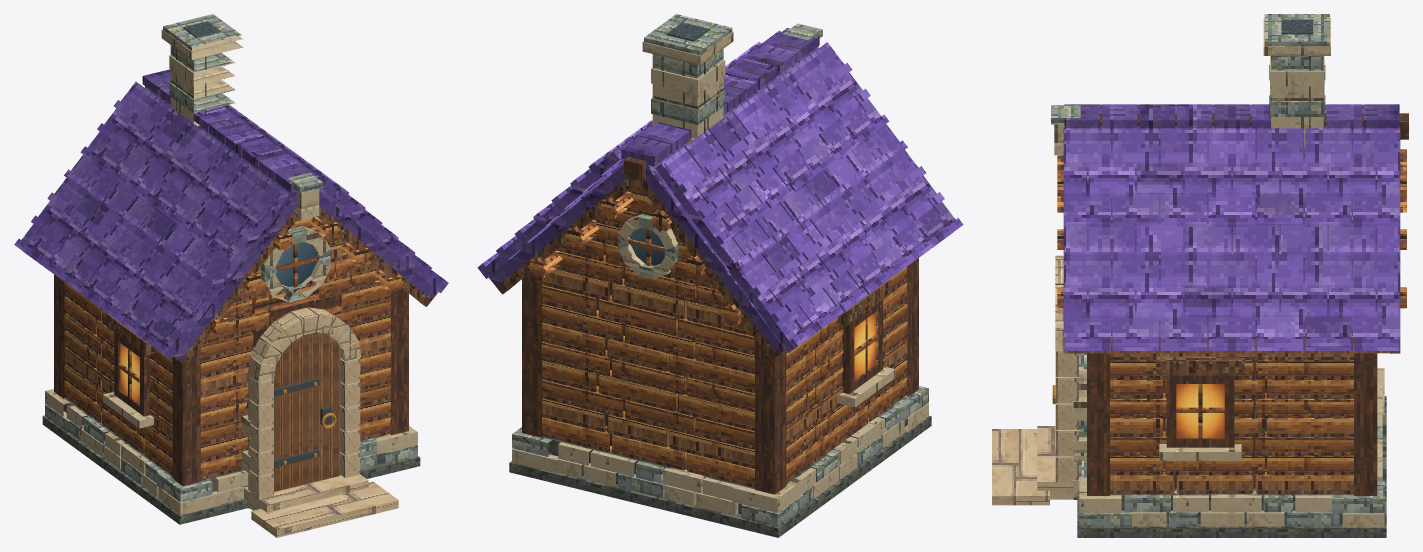
The picture shows the model from 3 angles, left to right: view 1: azimuth 30°, elevation 25°; view 2: azimuth 150°, elevation 25°; view 3: azimuth 270°, elevation 25°; orthographic projection. The views are drawn at different scales.
Visible parts, largest first — view 1: roof_geometry, roof_light_geometry, oak_geometry, oak_light_geometry, stone_warm_geometry, wood_geometry, wood_dark_geometry, roof_dark_geometry, stone_light_geometry, Walkable entry tread 0, stone_dark_geometry, Walkable entry tread 1 (+17 smaller); view 2: roof_geometry, oak_light_geometry, roof_light_geometry, oak_geometry, wood_geometry, stone_warm_geometry, wood_dark_geometry, roof_dark_geometry, stone_light_geometry, stone_dark_geometry, wood_light_geometry, window_glow_geometry (+1 smaller); view 3: roof_geometry, roof_light_geometry, stone_warm_geometry, wood_dark_geometry, roof_dark_geometry, oak_geometry, oak_light_geometry, stone_light_geometry, wood_geometry, stone_dark_geometry, Walkable entry tread 0, wood_light_geometry (+8 smaller).
Boxes of the visible parts, <box> form: roof_geometry: <box>21,86,445,333</box>; roof_light_geometry: <box>14,81,448,358</box>; oak_geometry: <box>64,219,390,476</box>; oak_light_geometry: <box>64,216,403,468</box>; stone_warm_geometry: <box>45,29,417,515</box>; wood_geometry: <box>64,203,426,479</box>; wood_dark_geometry: <box>42,85,438,485</box>; roof_dark_geometry: <box>44,69,438,361</box>; stone_light_geometry: <box>45,14,417,502</box>; Walkable entry tread 0: <box>251,481,398,537</box>; stone_dark_geometry: <box>42,49,420,524</box>; Walkable entry tread 1: <box>249,474,368,512</box>; roof_geometry: <box>480,30,936,352</box>; oak_light_geometry: <box>527,183,907,483</box>; roof_light_geometry: <box>477,41,963,352</box>; oak_geometry: <box>542,193,907,478</box>; wood_geometry: <box>502,177,907,487</box>; stone_warm_geometry: <box>512,31,928,515</box>; wood_dark_geometry: <box>488,44,932,494</box>; roof_dark_geometry: <box>489,28,955,355</box>; stone_light_geometry: <box>512,14,928,527</box>; stone_dark_geometry: <box>509,61,931,537</box>; wood_light_geometry: <box>542,269,907,464</box>; window_glow_geometry: <box>854,312,875,379</box>; roof_geometry: <box>1064,104,1399,350</box>; roof_light_geometry: <box>1065,104,1399,350</box>; stone_warm_geometry: <box>1054,18,1384,527</box>; wood_dark_geometry: <box>1063,113,1408,495</box>; roof_dark_geometry: <box>1063,104,1400,350</box>; oak_geometry: <box>1110,355,1353,474</box>; oak_light_geometry: <box>1057,149,1406,480</box>; stone_light_geometry: <box>1051,14,1384,527</box>; wood_geometry: <box>1063,347,1400,494</box>; stone_dark_geometry: <box>1077,56,1386,537</box>; Walkable entry tread 0: <box>992,429,1049,505</box>; wood_light_geometry: <box>1110,353,1353,493</box>.
Bounding box in the file's own units: 3.55 × 4.67 × 3.96.
18 materials, 17 textured.
